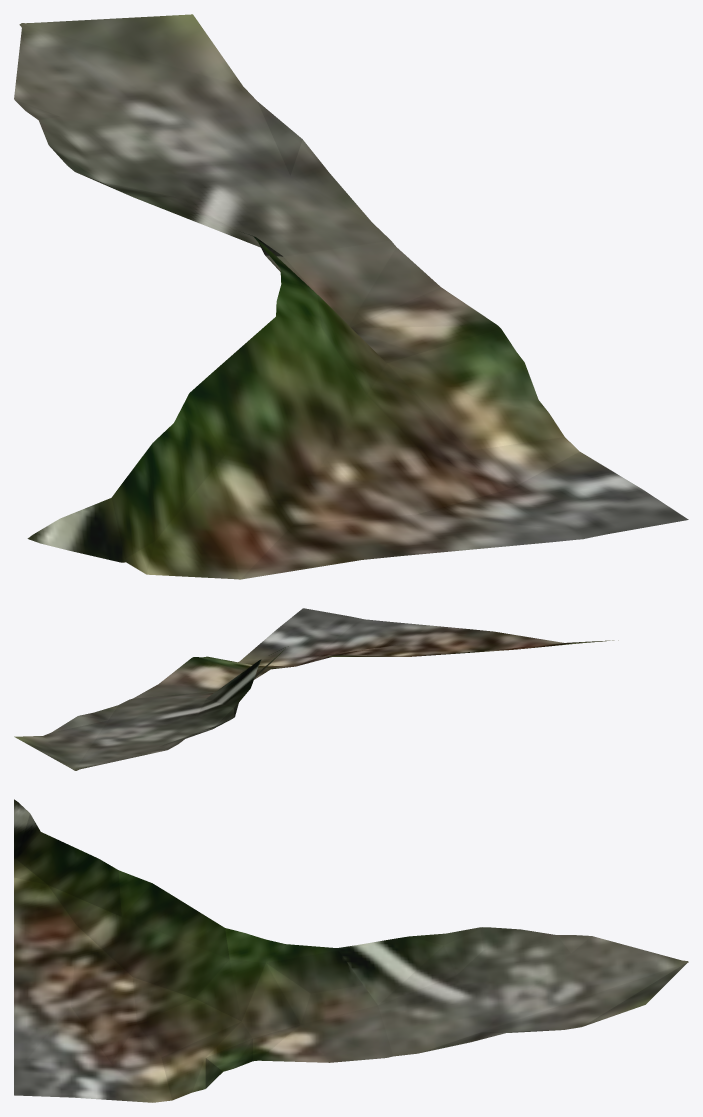
3 renders of one model, top to bottom at view 1: azimuth 30°, elevation 25°; view 2: azimuth 150°, elevation 25°; view 3: azimuth 270°, elevation 25°, orthographic. The views are drawn at different scales.
Size of the model in its own units: 0.8982 by 0.1998 by 1.25.
1 material, 1 textured.
